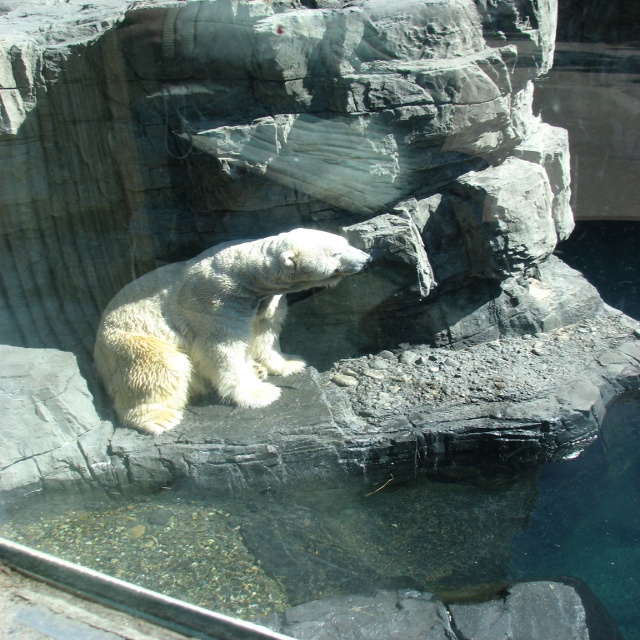Polar bear: (87, 228, 372, 436)
